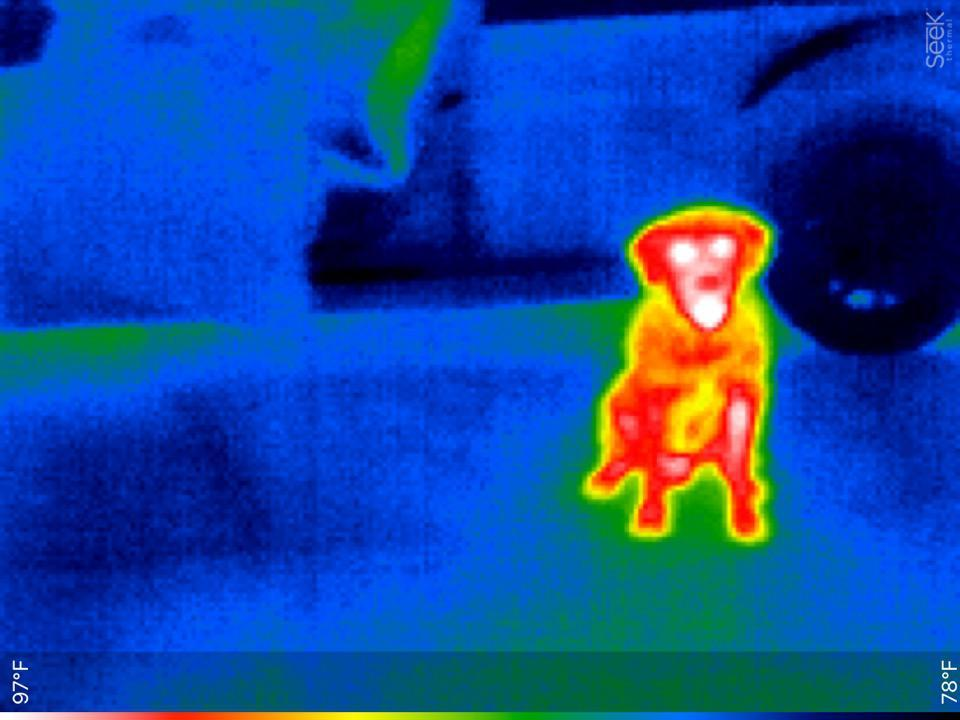dog: (578, 194, 785, 552)
